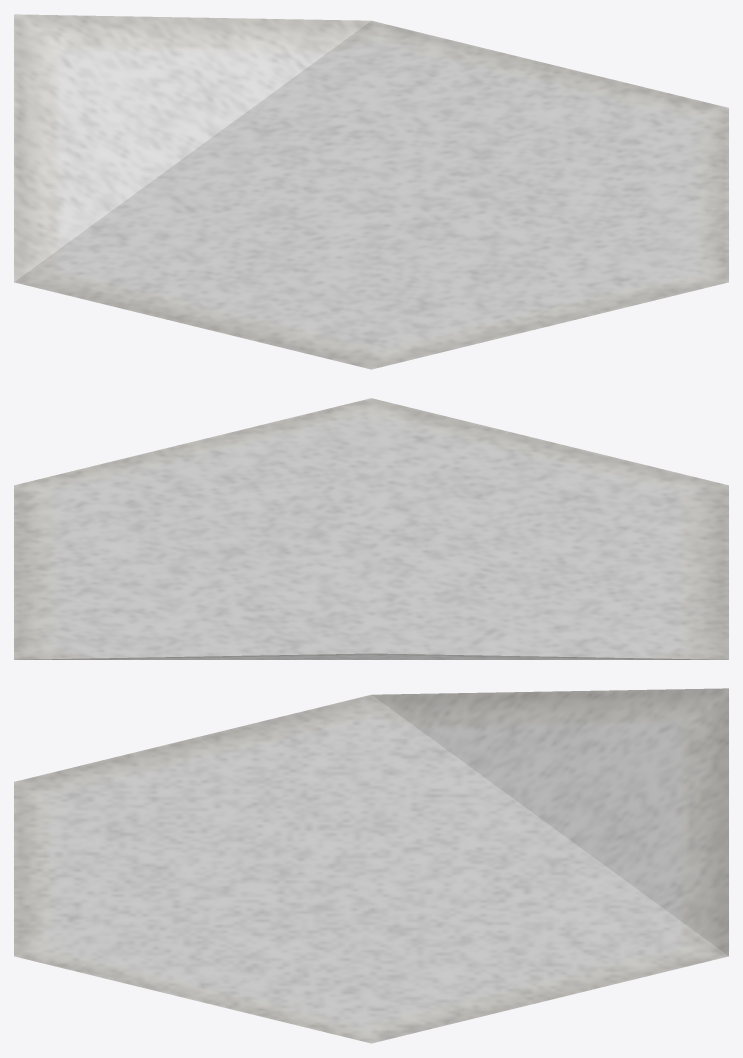
Rendered from HexaTile_PP_BC1.FBX.
The picture shows the model from 3 angles, top to bottom: view 1: azimuth 30°, elevation 25°; view 2: azimuth 150°, elevation 25°; view 3: azimuth 270°, elevation 25°; orthographic projection.
Visible parts, largest first — view 1: HexaTile_PP_BC1; view 2: HexaTile_PP_BC1; view 3: HexaTile_PP_BC1.
Boxes of the visible parts, box(x1,y1,x2,y2) form: HexaTile_PP_BC1: box(14, 14, 728, 369); HexaTile_PP_BC1: box(14, 398, 728, 659); HexaTile_PP_BC1: box(14, 688, 728, 1043).
Size of the model in its own units: 1 by 0.125 by 0.866.
